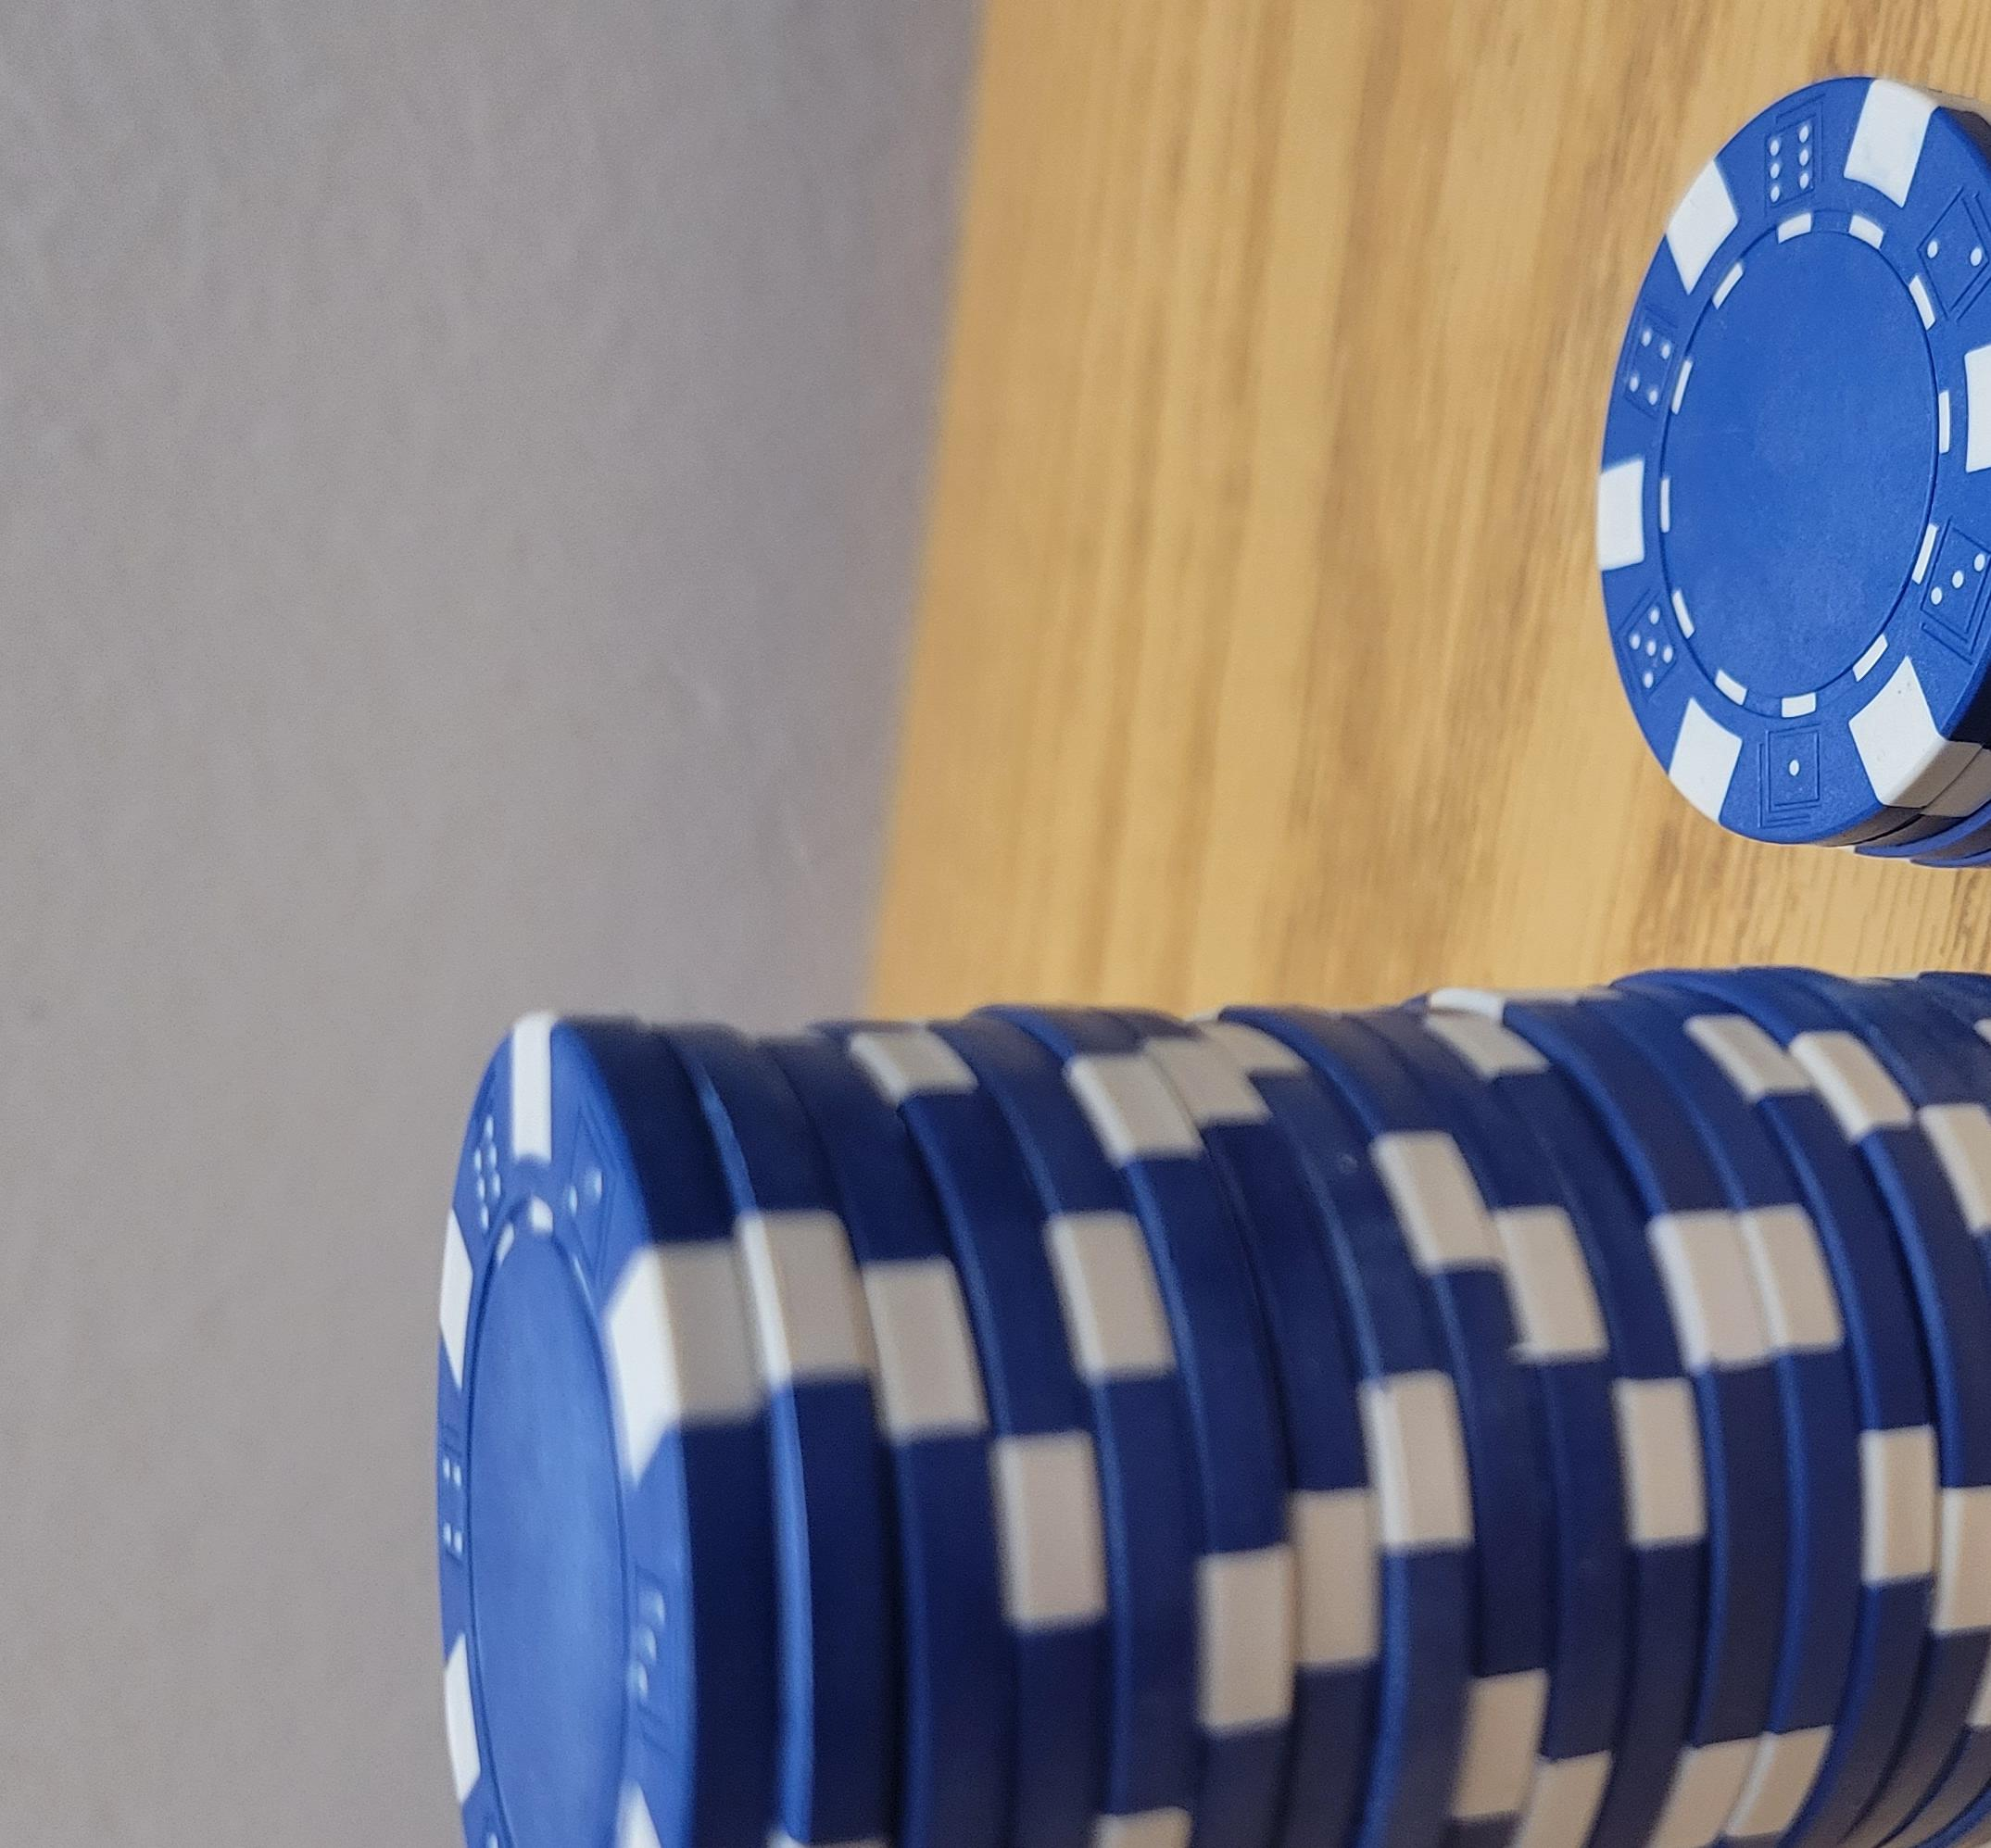Chip: (2, 130, 1444, 1848)
